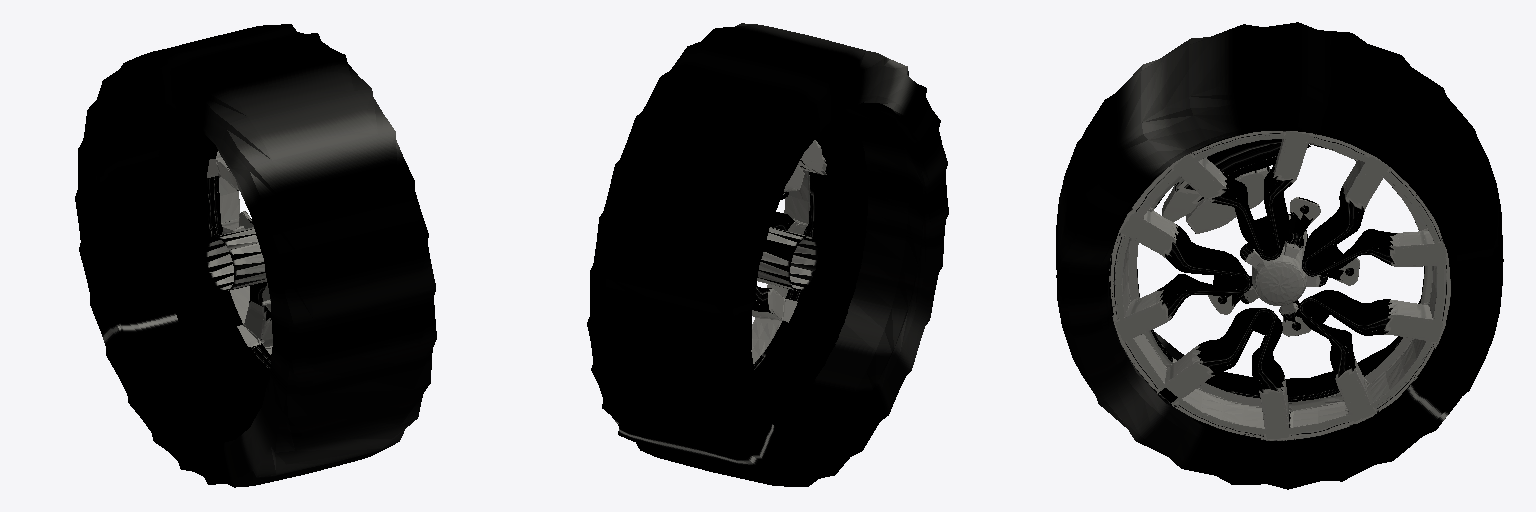
The picture shows the model from 3 angles: view 1: azimuth 30°, elevation 25°; view 2: azimuth 150°, elevation 25°; view 3: azimuth 270°, elevation 25°; orthographic projection.
Parts seen in each view (by area): view 1: Llanta_ID; view 2: Llanta_ID; view 3: Llanta_ID.
Boxes of the visible parts, box(x1,y1,x2,y2) form: Llanta_ID: box(75, 24, 436, 487); Llanta_ID: box(587, 23, 948, 486); Llanta_ID: box(1056, 22, 1503, 489).
Bounding box in the file's own units: 7.79 × 20.68 × 20.67.
1 materials, 1 textured.